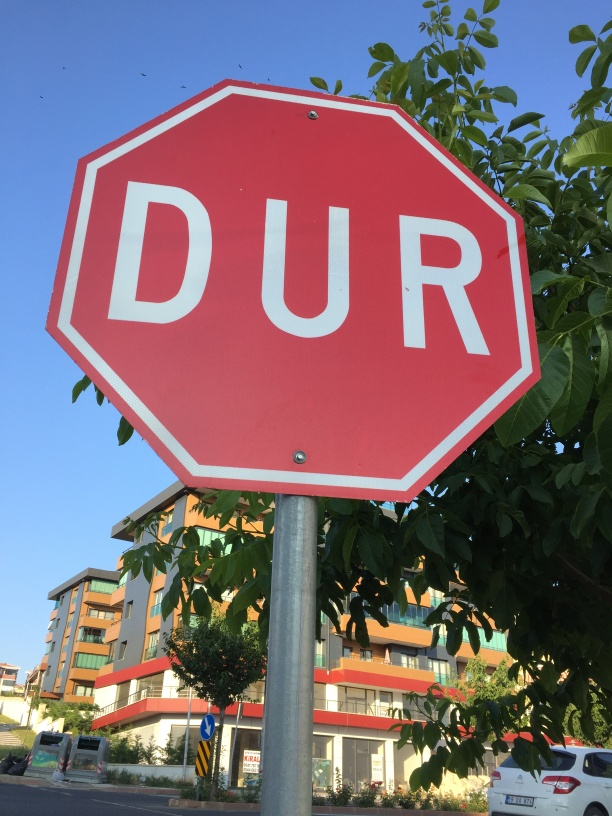arac_dur_isareti: (36, 55, 553, 636)
